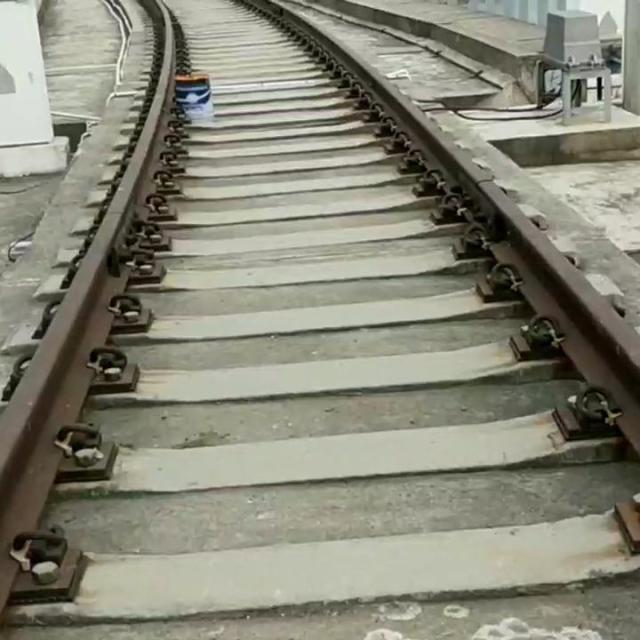danger: (171, 70, 221, 128)
rail: (243, 0, 640, 456), (0, 0, 174, 614)
